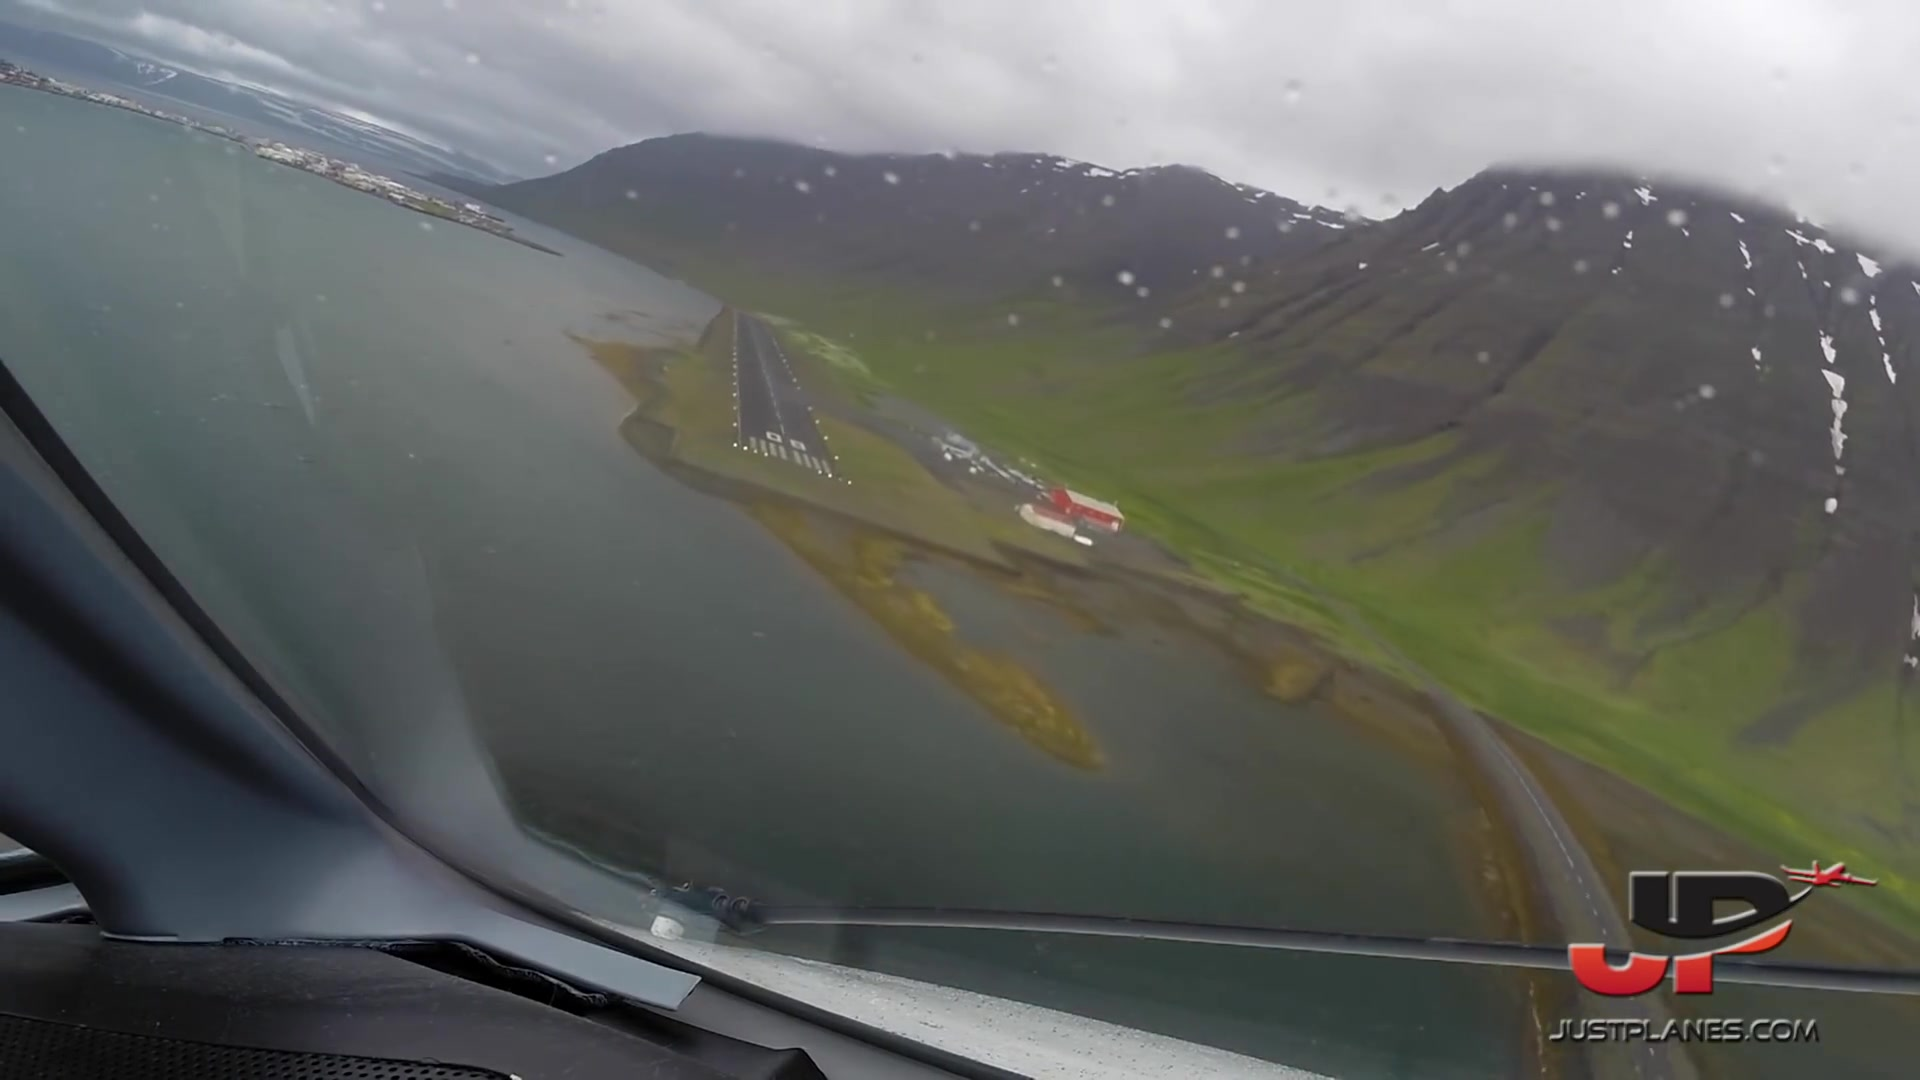entrance: (748, 439, 833, 477)
runway: (727, 309, 855, 488)
